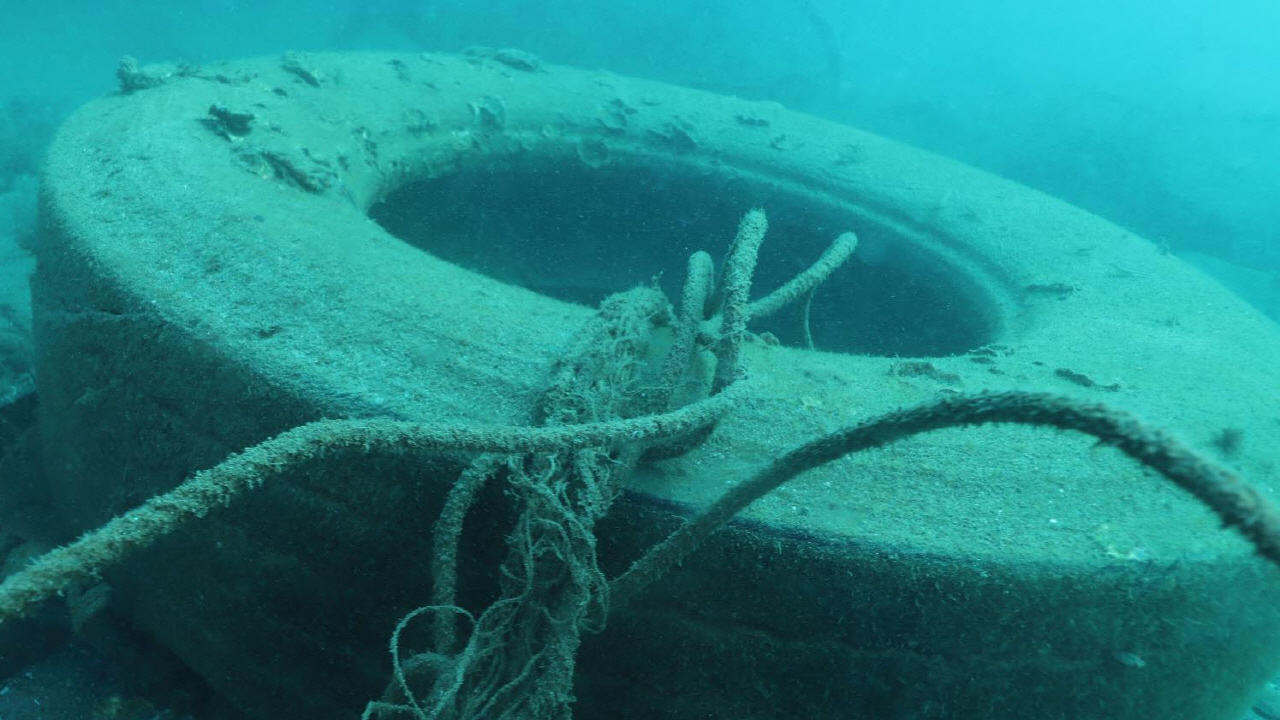bundle of ropes: (0, 204, 1280, 720)
tire: (28, 42, 1280, 720)
